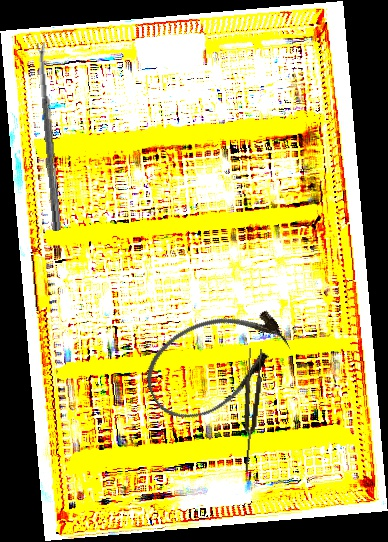Cannula: (131, 289, 301, 435)
Surgical Spoon: (36, 41, 63, 232)
Tissue Forceps: (237, 347, 265, 473)
